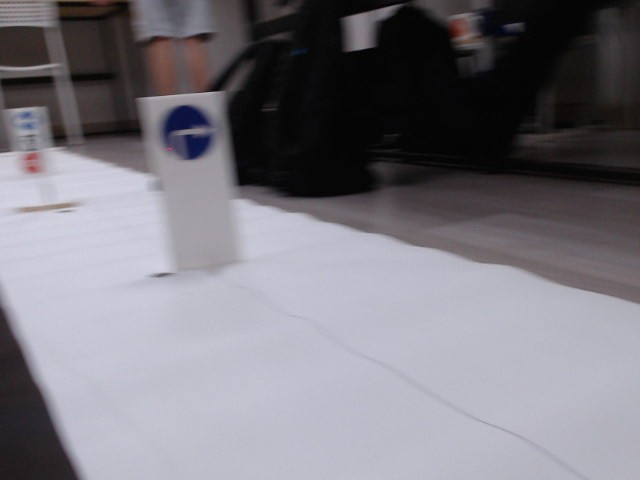Right: (159, 105, 216, 160)
